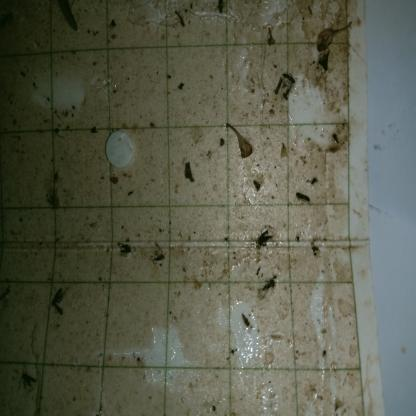prays_oleae: (46, 285, 73, 324), (252, 226, 277, 254), (257, 274, 282, 301), (17, 365, 38, 393), (150, 241, 169, 270), (116, 234, 134, 261), (292, 189, 313, 203)
